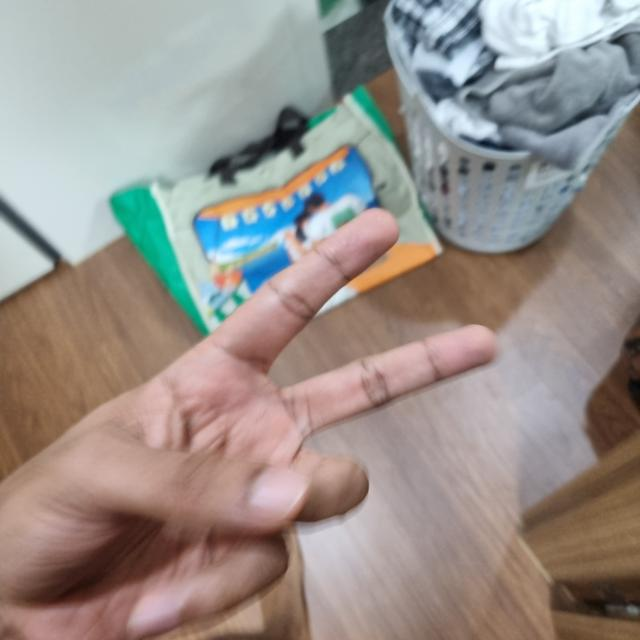Scissors: (0, 65, 640, 639)
